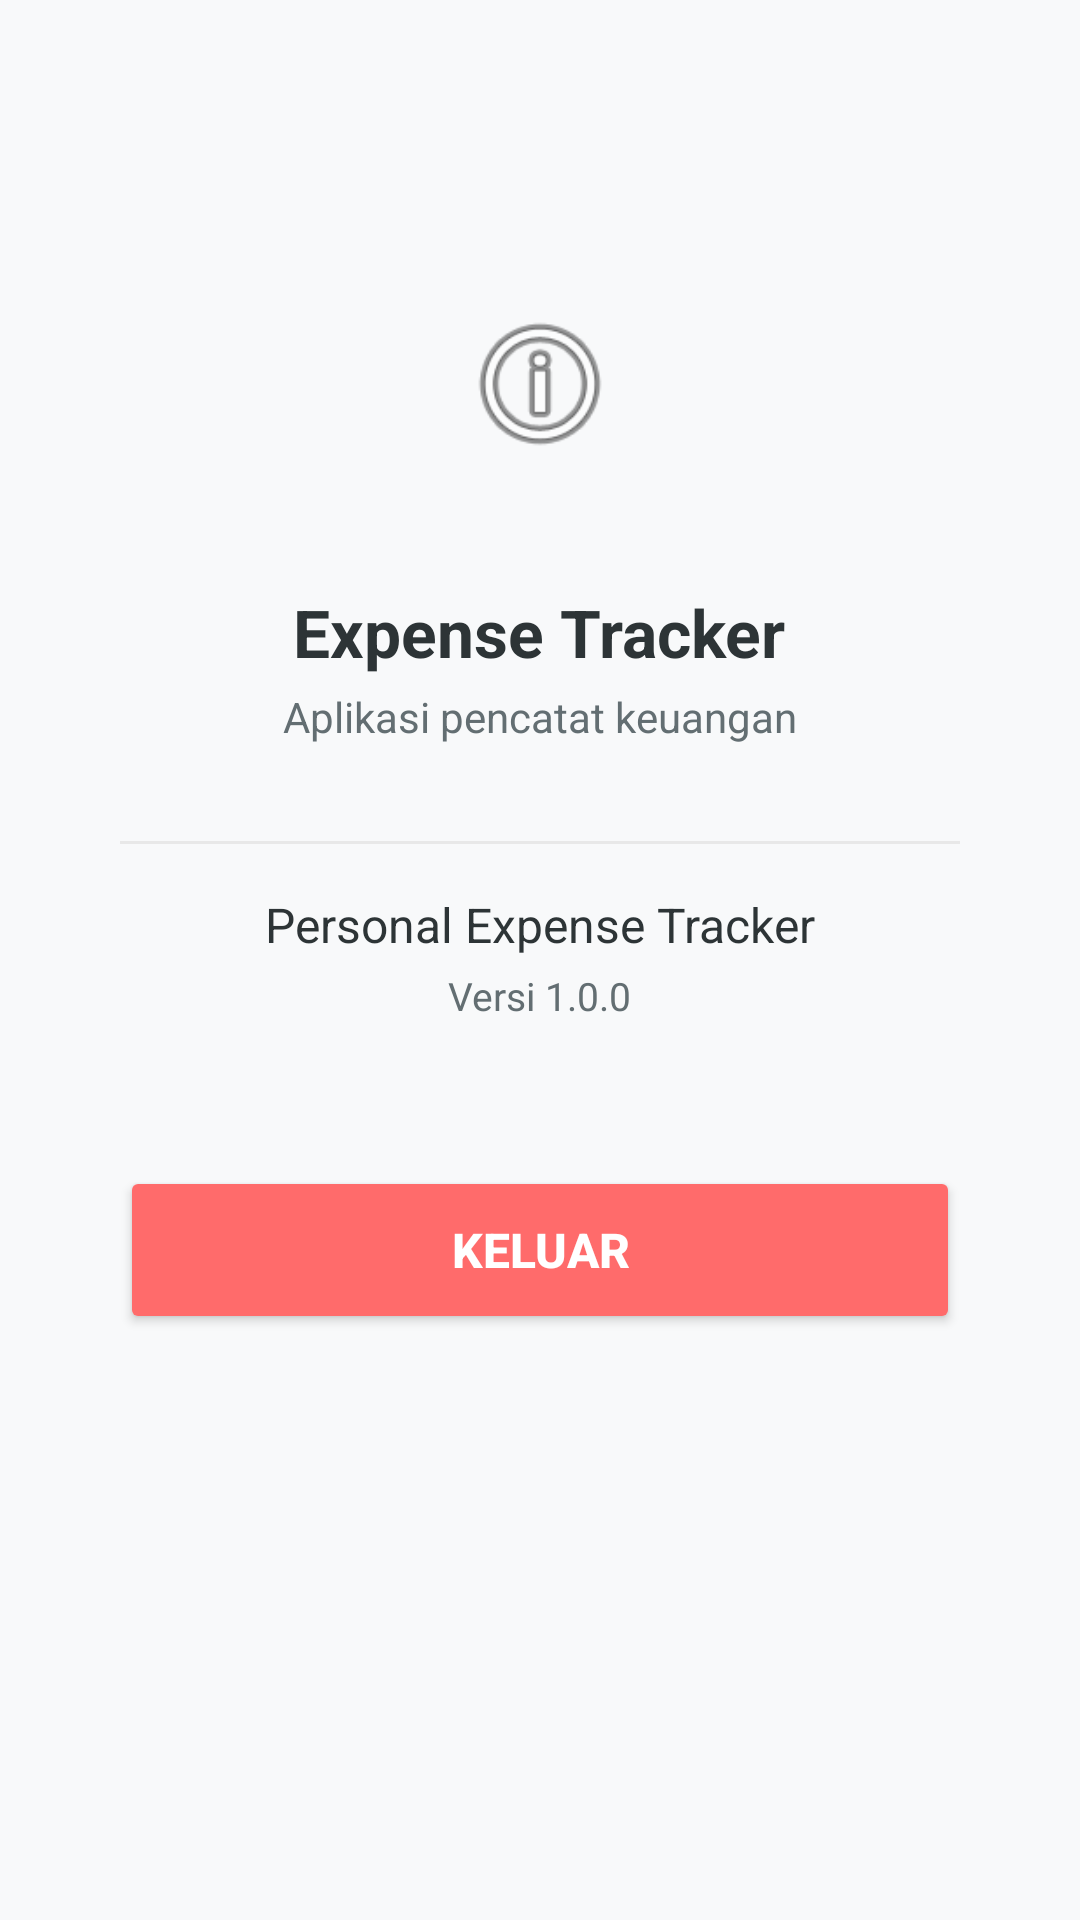

Where to tap for icons on this 1080 × 1920 app screen, as (x,y):
info details: (540,384)
